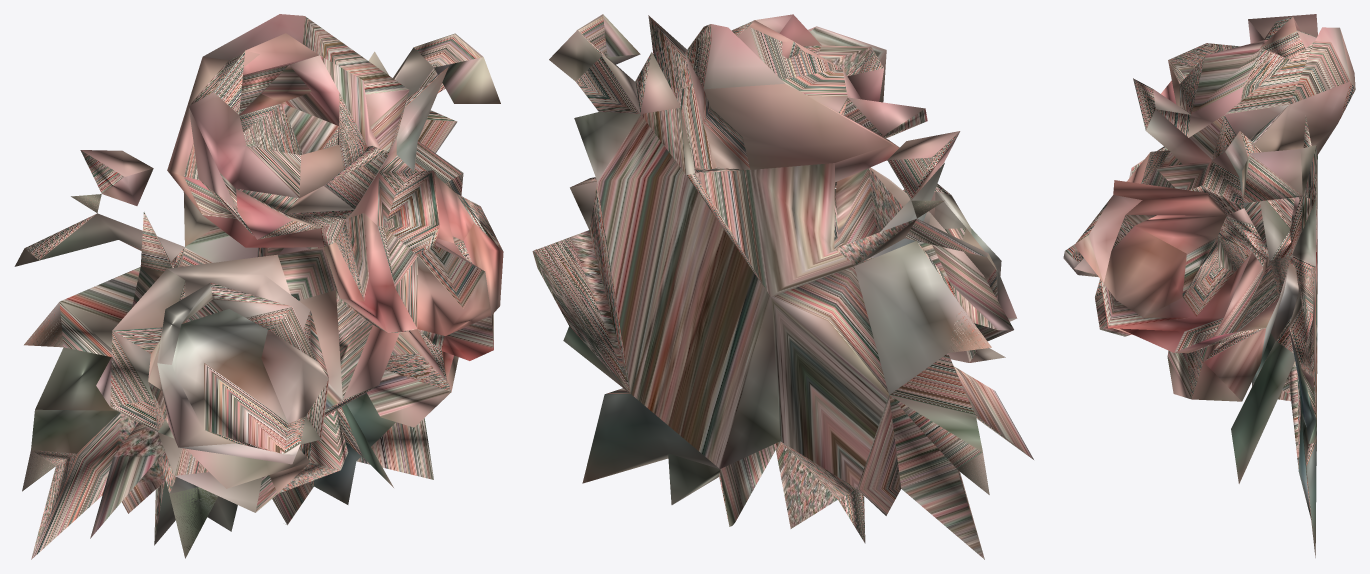
3 views of the same model, side by side, from view 1: azimuth 30°, elevation 25°; view 2: azimuth 150°, elevation 25°; view 3: azimuth 270°, elevation 25° (orthographic). The views are drawn at different scales.
Visible parts, largest first — view 1: Rose-Bouquet-9-15; view 2: Rose-Bouquet-9-15; view 3: Rose-Bouquet-9-15.
Part boxes in pixels (left/top/right/bottom): Rose-Bouquet-9-15: left=14, top=14, right=503, bottom=559; Rose-Bouquet-9-15: left=532, top=14, right=1033, bottom=559; Rose-Bouquet-9-15: left=1063, top=14, right=1355, bottom=557.
Size of the model in its own units: 0.2744 by 0.2829 by 0.1587.
1 material, 1 textured.
